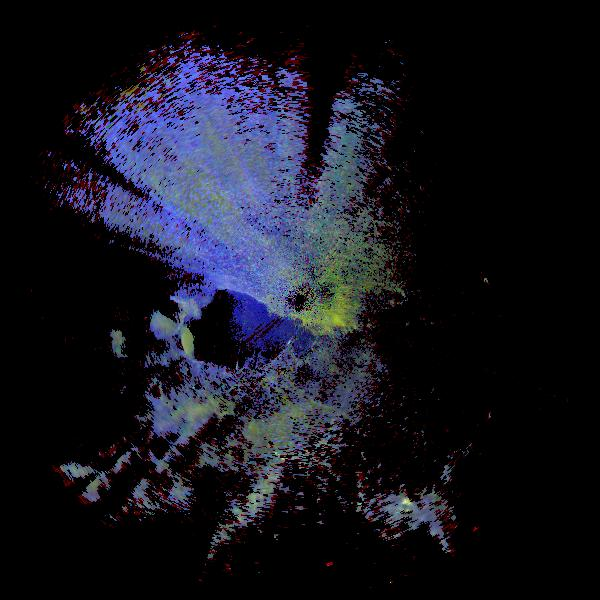roost: (140, 309, 209, 378)
